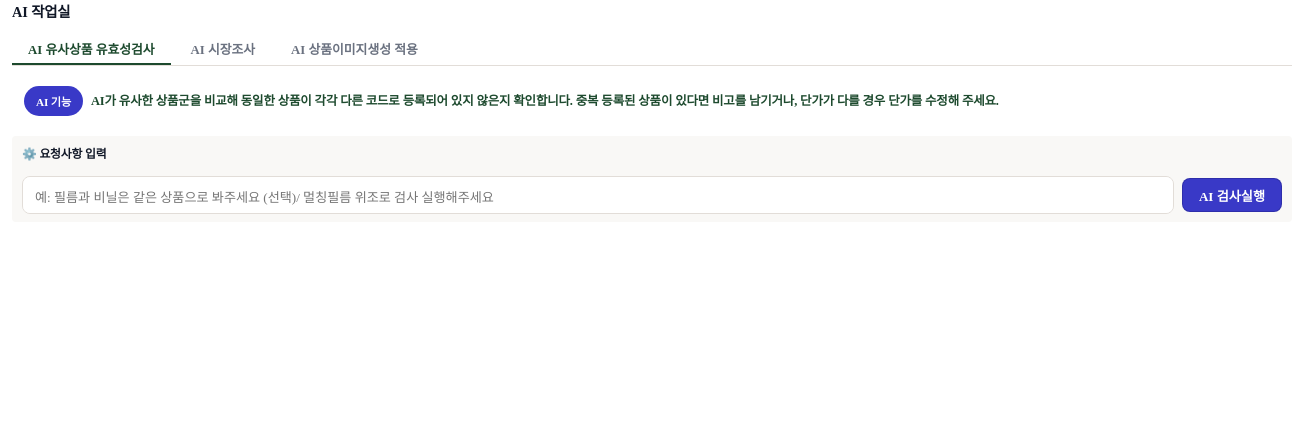
Test case: WorkbookAiRecommendationPanel › shows a loading label and disables the button while a generated preview is saving
This screenshot has width=1292, height=422.
Click the tab "AI 상품이미지생성 적용".
click(354, 50)  # box [275, 34, 434, 65]
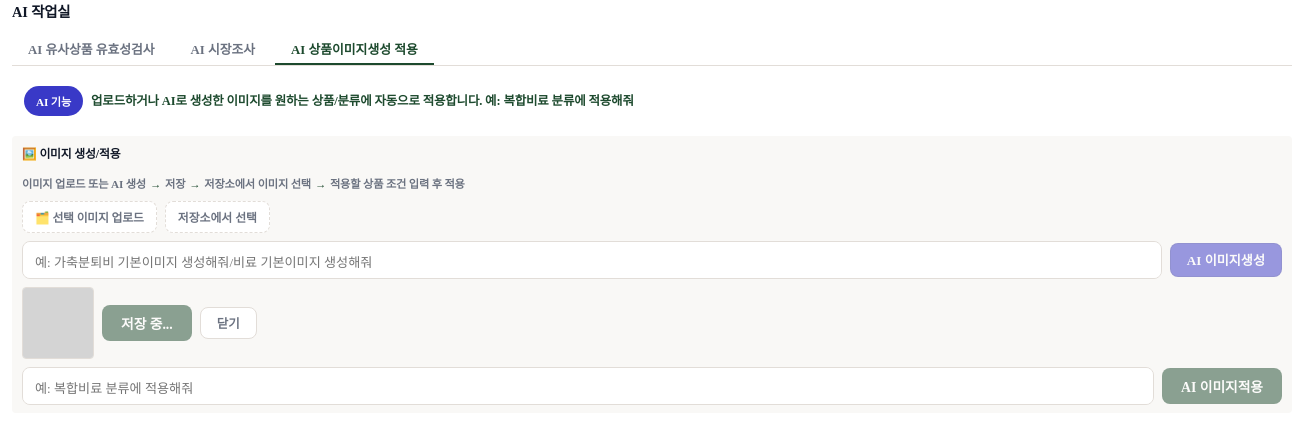
Expected: the button "저장 중..." is disabled, [102, 305, 192, 341]
